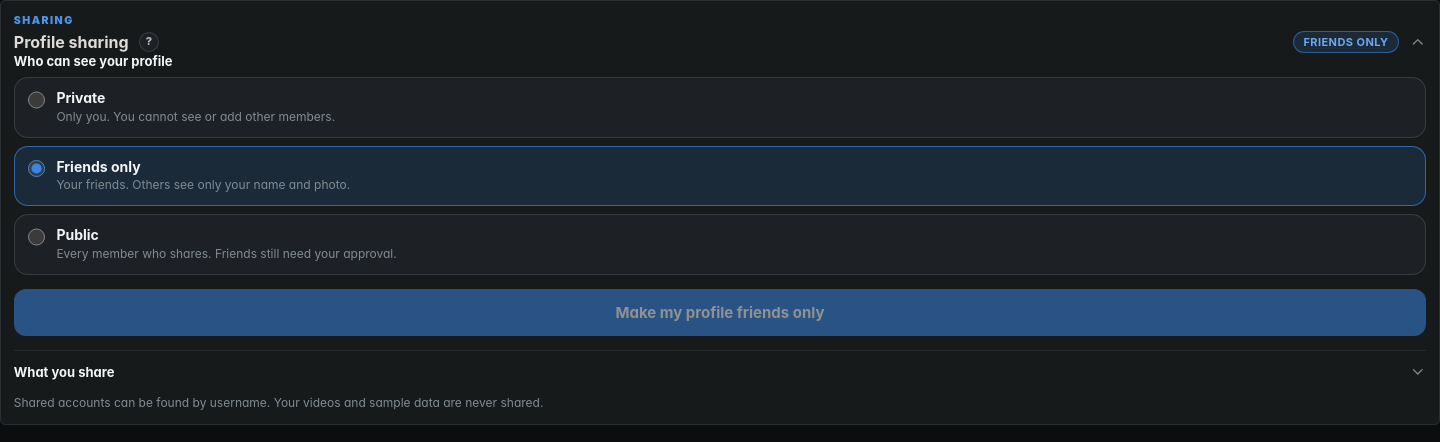
Test: profile sharing visibility › keeps one confirm button under the options and reselecting cancels the change
Expected: the button "Make my profile friends only" is disabled, [14,289,1426,336]
Click the radio button labelled "Private Only you. You cannot see or add other members." at (36, 100), box [28,91,45,109]
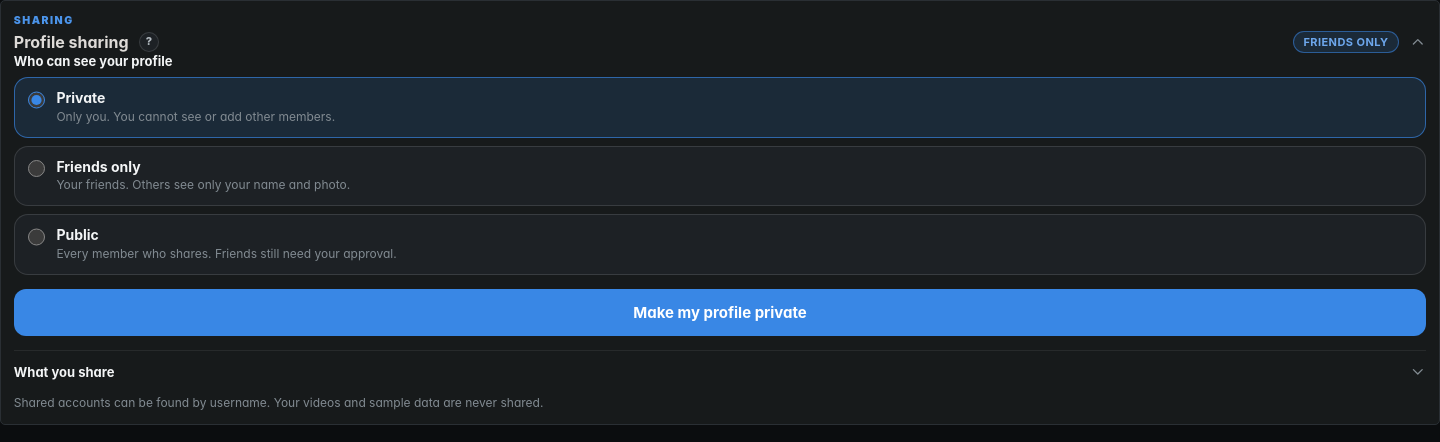
Now the button "Make my profile private" is enabled, box [14,289,1426,336]
Click the 2nd radio button at (36, 168), box [28,160,45,177]
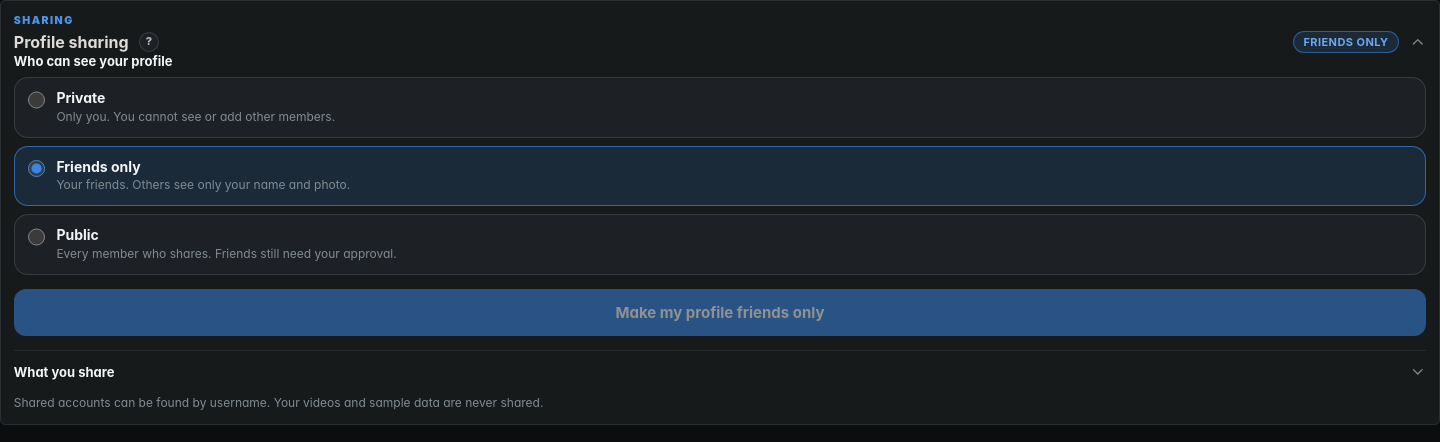
Now the button "Make my profile friends only" is disabled, box [14,289,1426,336]
